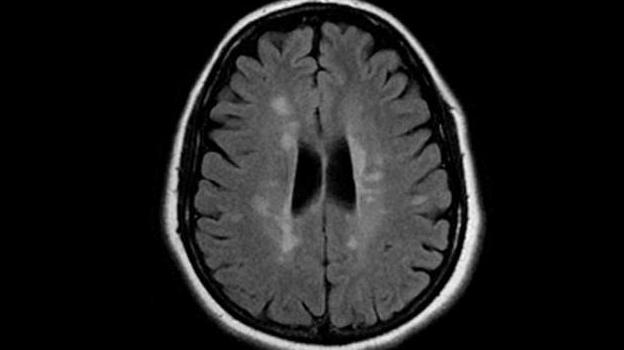Normal_Brain: (1, 1, 624, 350)
